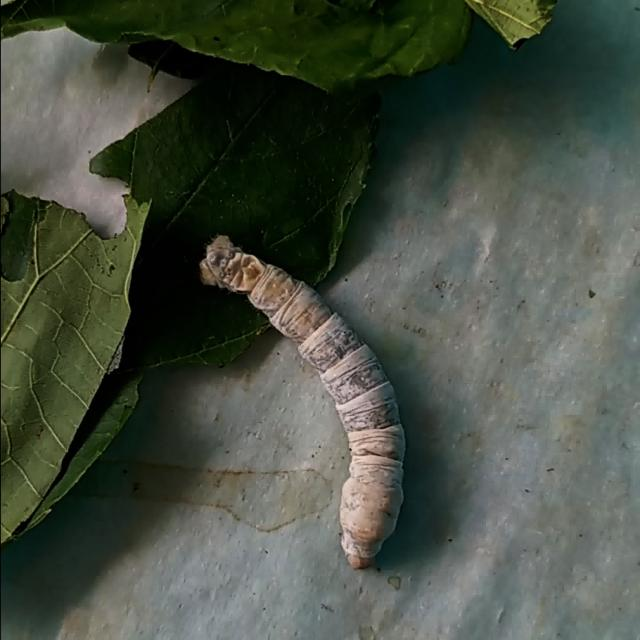Grasserie: (197, 225, 422, 569)
